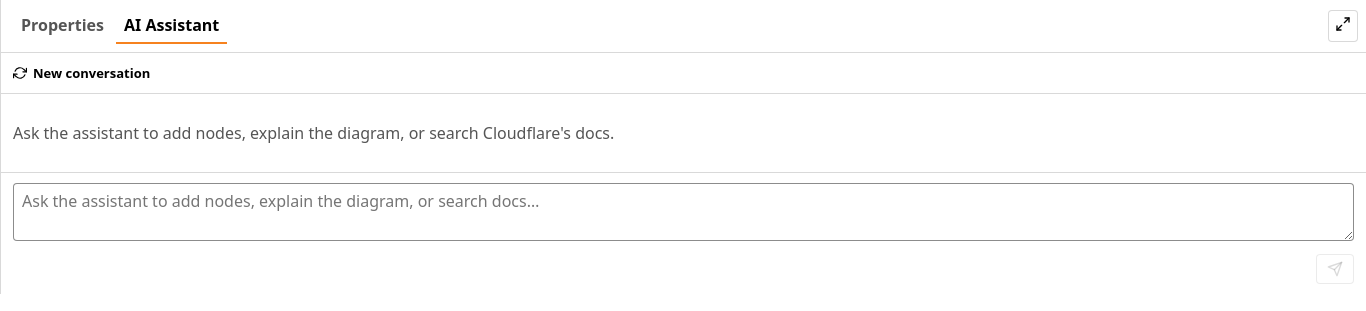
Test: the two tabs › switches back to Properties
Click the tab "Properties".
click(62, 26)  # box [13,8,112,44]
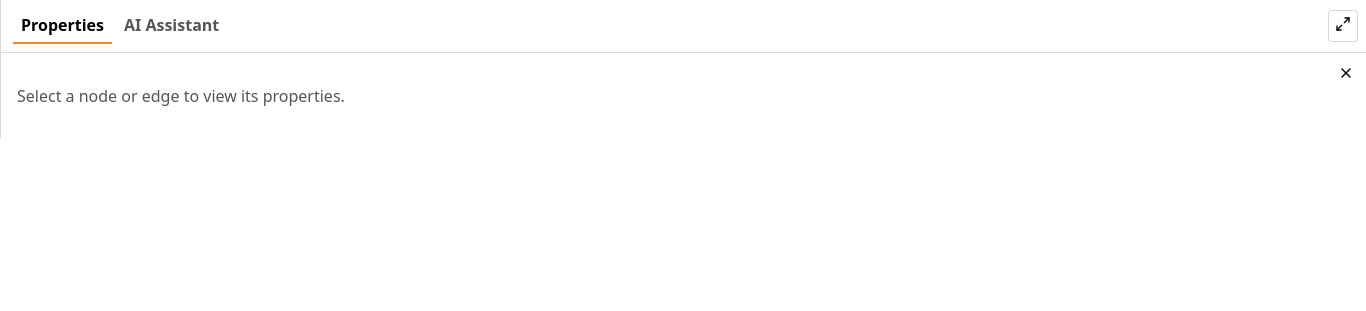
expect the text "Select a node or edge to view its properties." is shown: met, box [17,85,345,107]
